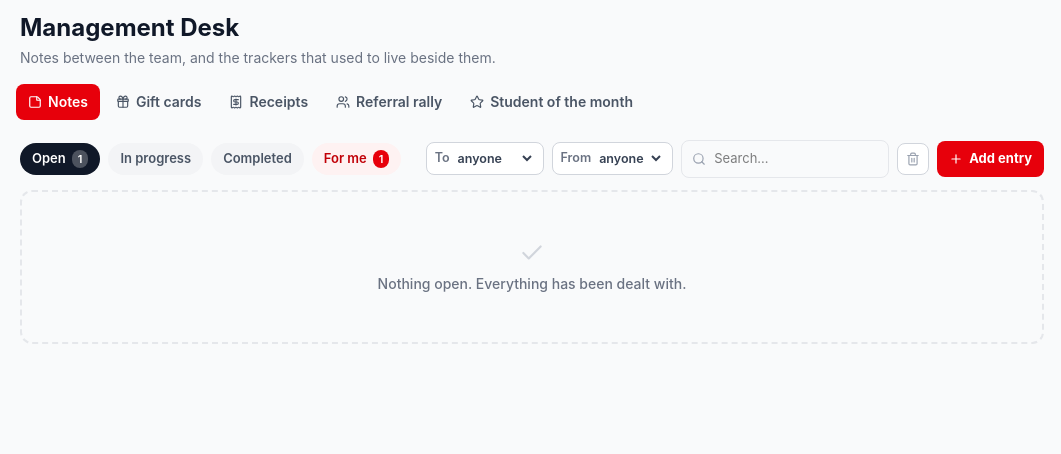
Test: the chain › points at the settled matches rather than hiding them
Type "harshad" into the field with placeholder "Search…" at (796, 159), box 714,149 -> 878,168
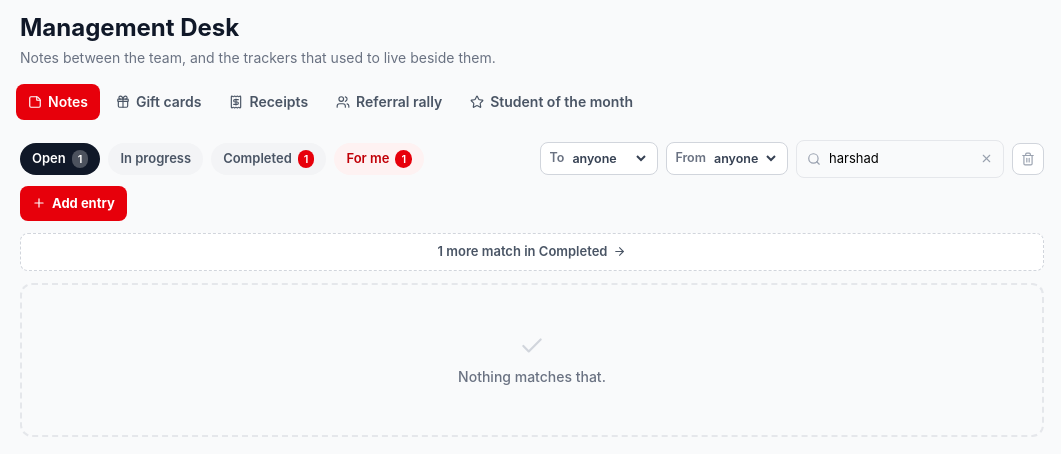
Click the button "1 more match in Completed" at (532, 252), box 20,233 -> 1044,270
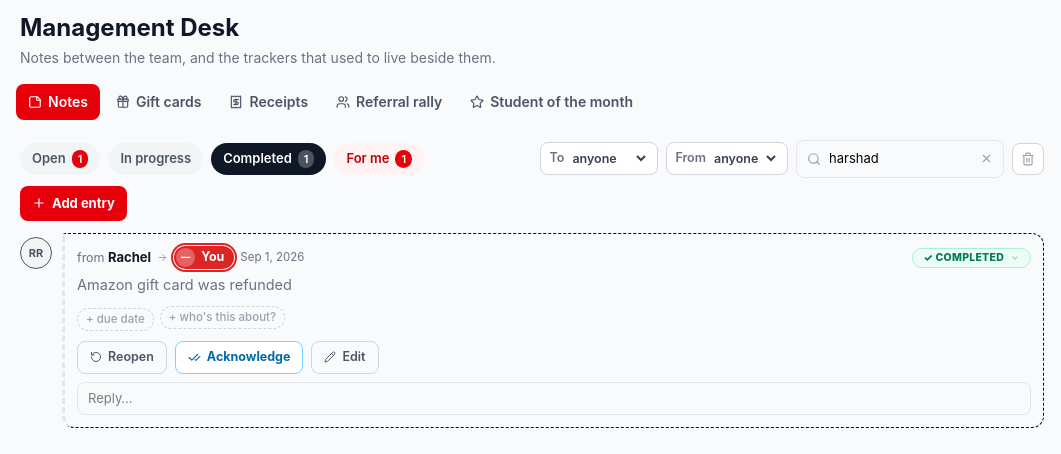
Expected: the text "Amazon gift card was refunded" is shown, 77,276 -> 292,293
